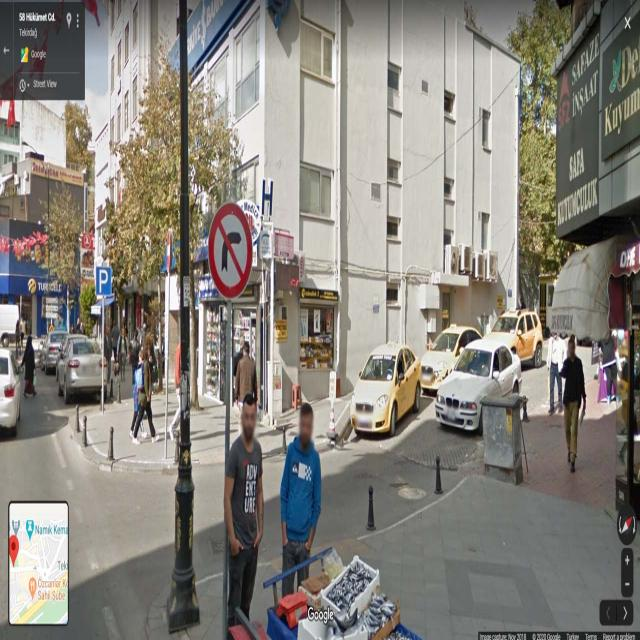park: (95, 268, 113, 294)
sagadonulmez: (208, 204, 253, 296)
